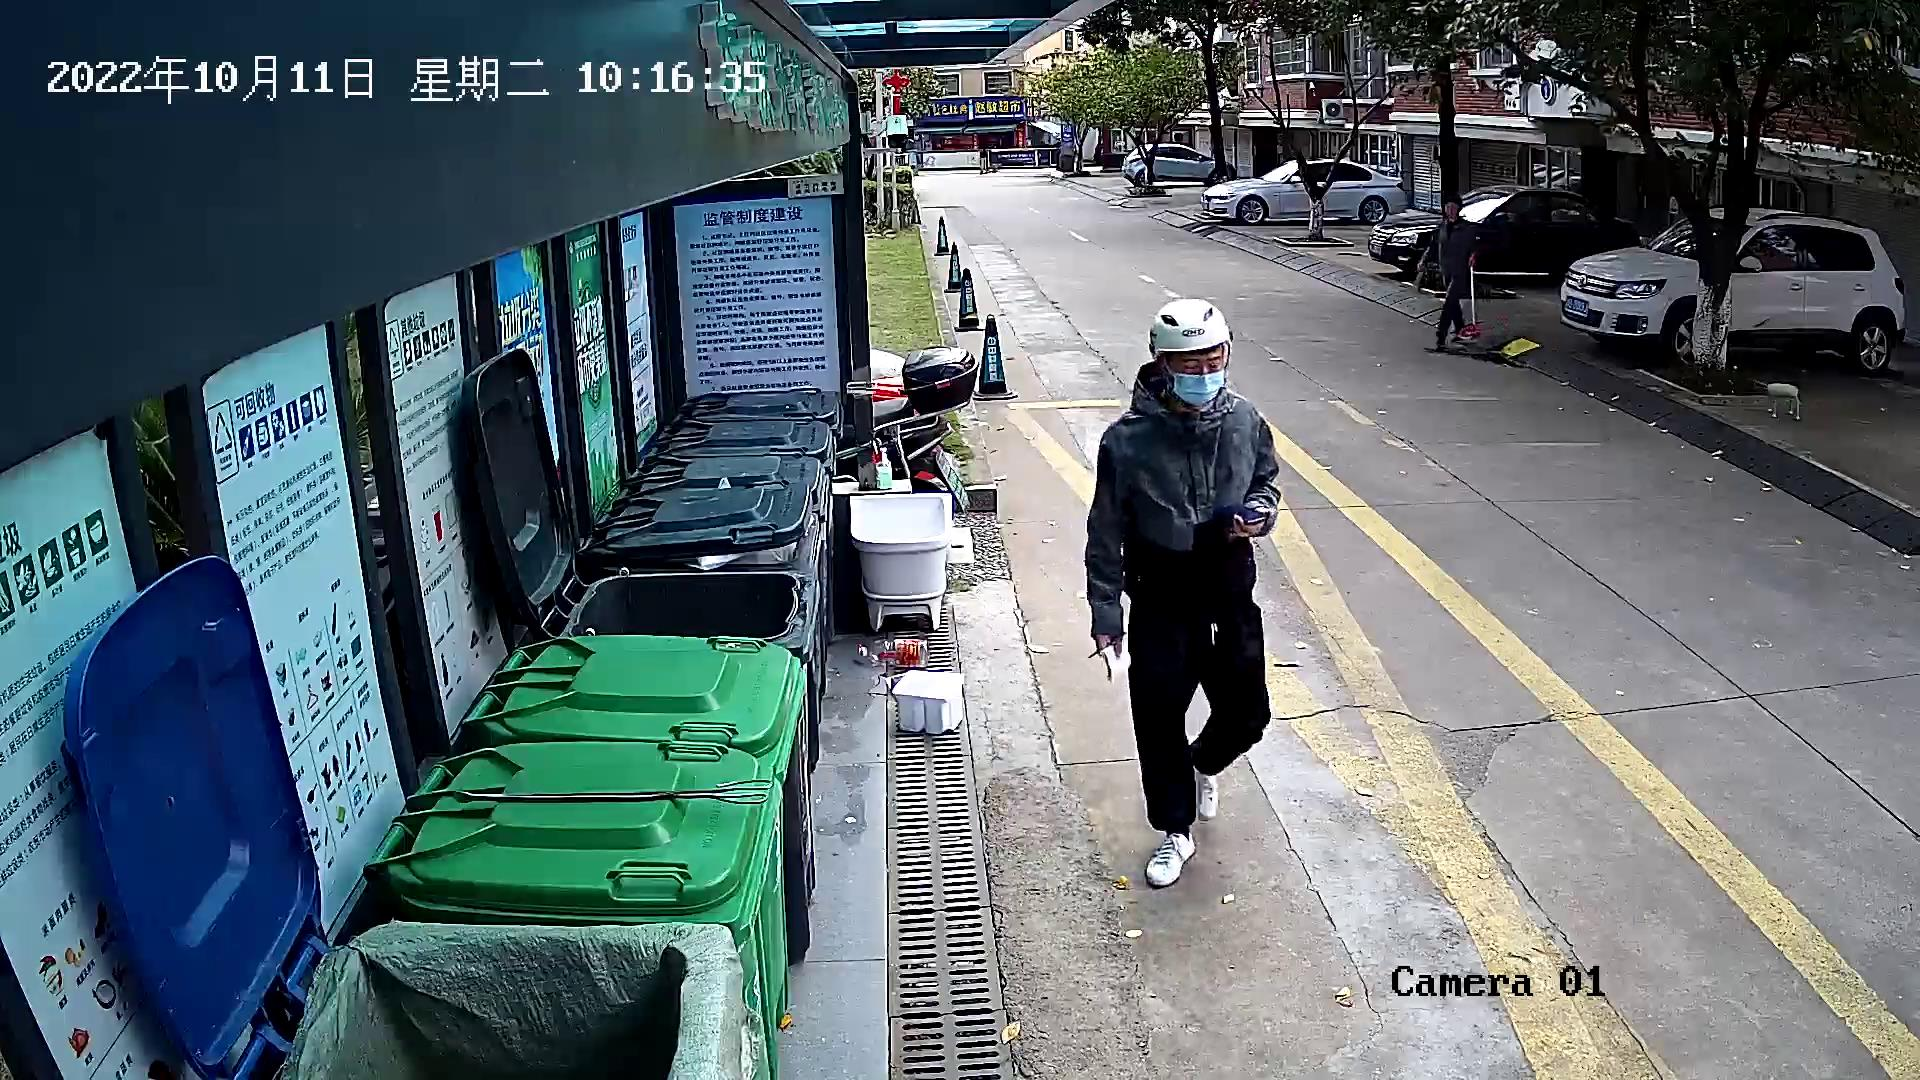paomozhipin: (888, 662, 978, 738)
person: (1071, 291, 1292, 895)
suliaozhipin: (849, 631, 940, 672)
